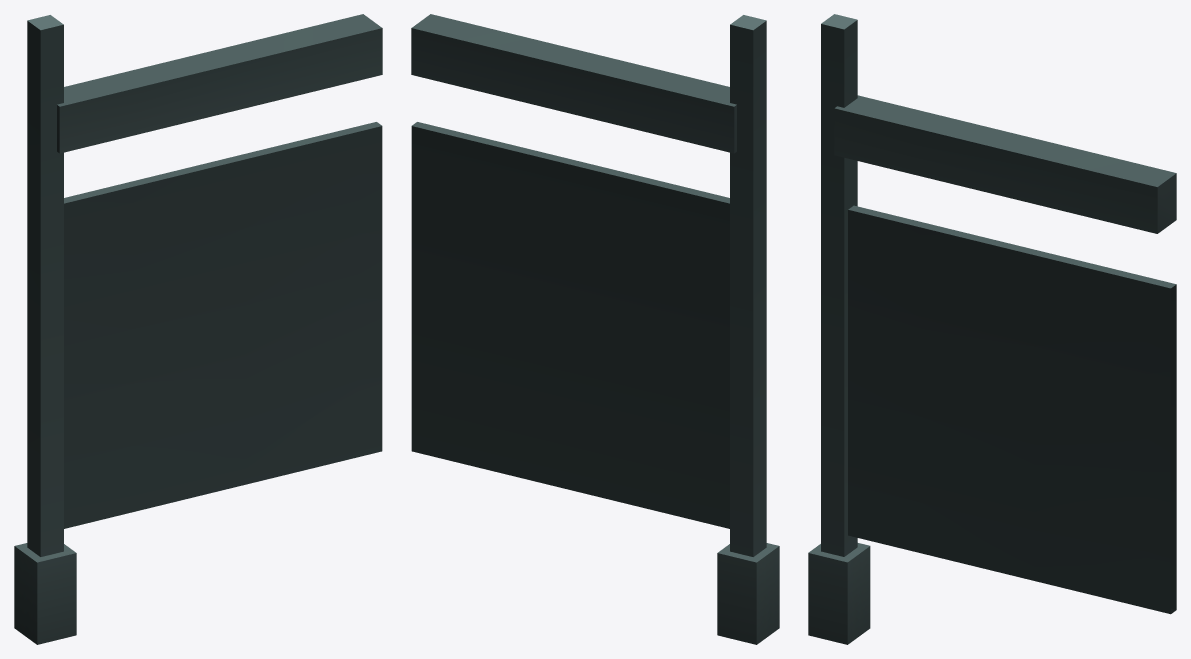
File: Metal_Fence_2A.fbx
3 views of the same model, side by side, from view 1: azimuth 30°, elevation 25°; view 2: azimuth 150°, elevation 25°; view 3: azimuth 330°, elevation 25° (orthographic).
Parts seen in each view (by area): view 1: Metal_Fence_2A; view 2: Metal_Fence_2A; view 3: Metal_Fence_2A.
Part boxes in pixels (<box>): Metal_Fence_2A: <box>14,14,382,644</box>; Metal_Fence_2A: <box>411,14,779,644</box>; Metal_Fence_2A: <box>808,14,1176,644</box>.
Size of the model in its own units: 2.13 by 3.5 by 0.2367.
